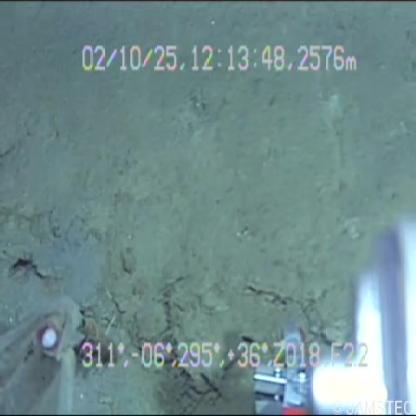Rov: (234, 194, 416, 416)
Rác: (2, 285, 107, 416)
